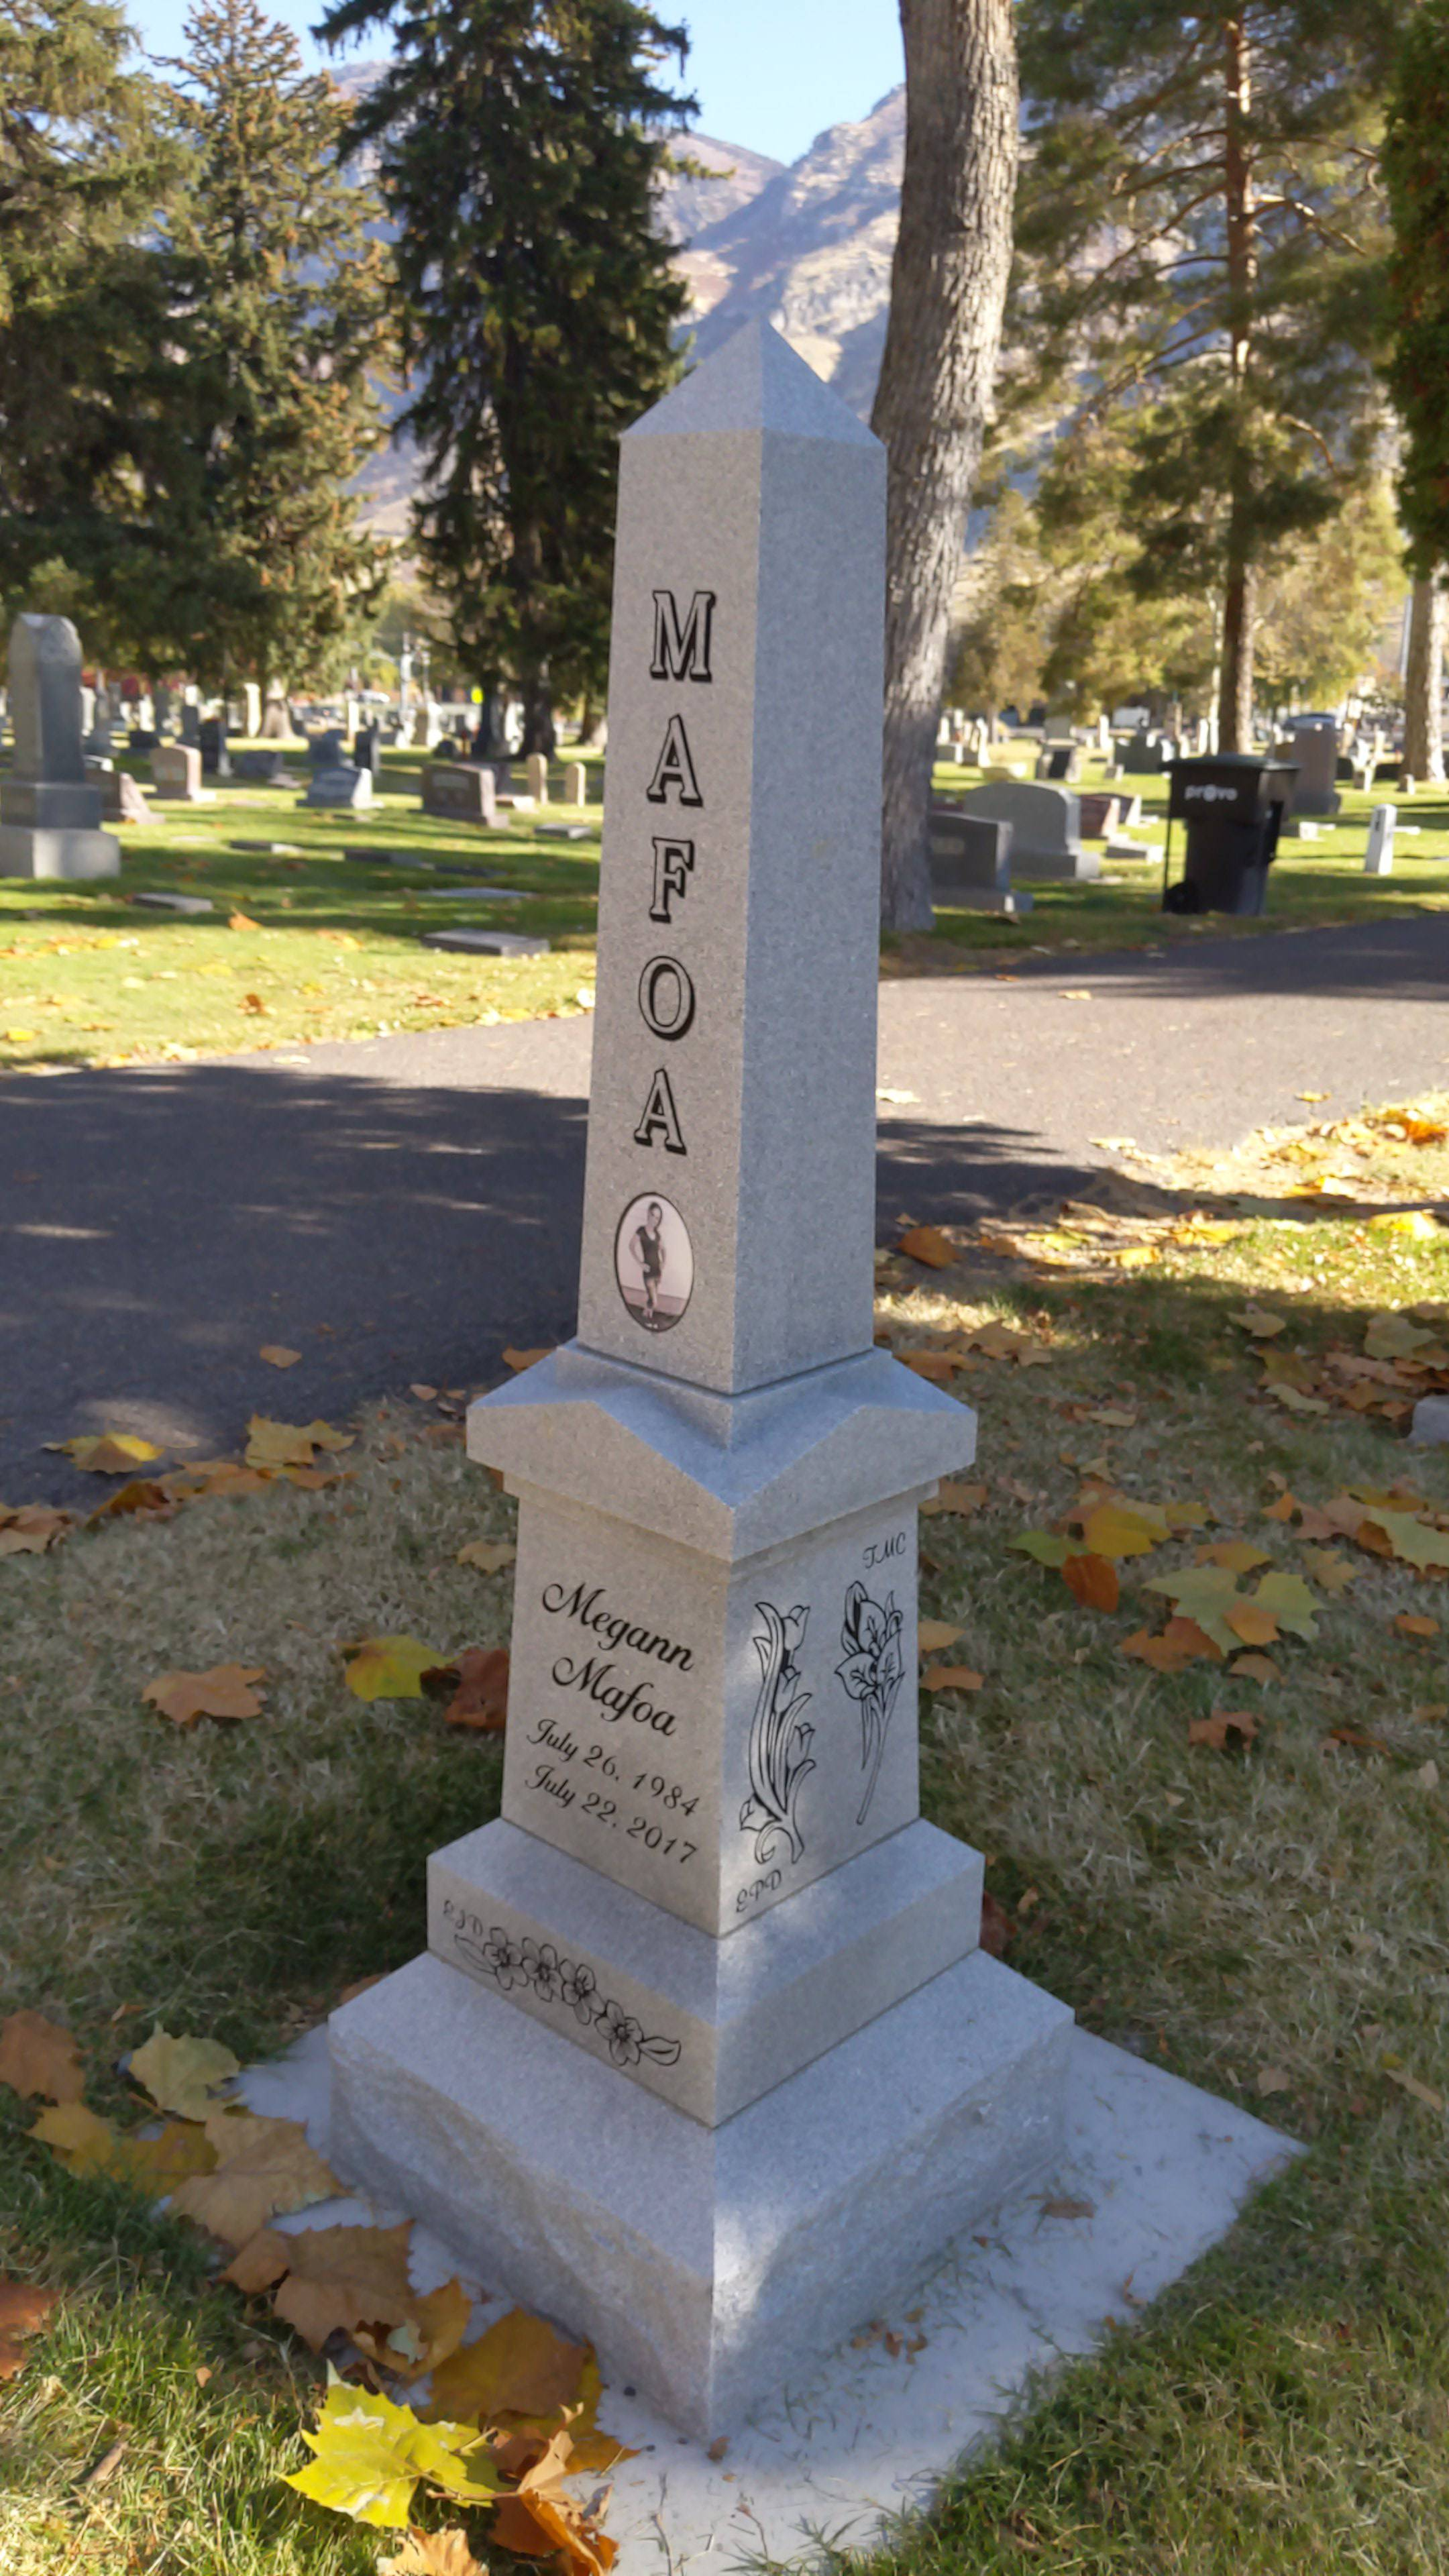obelisk: (435, 322, 982, 2114)
